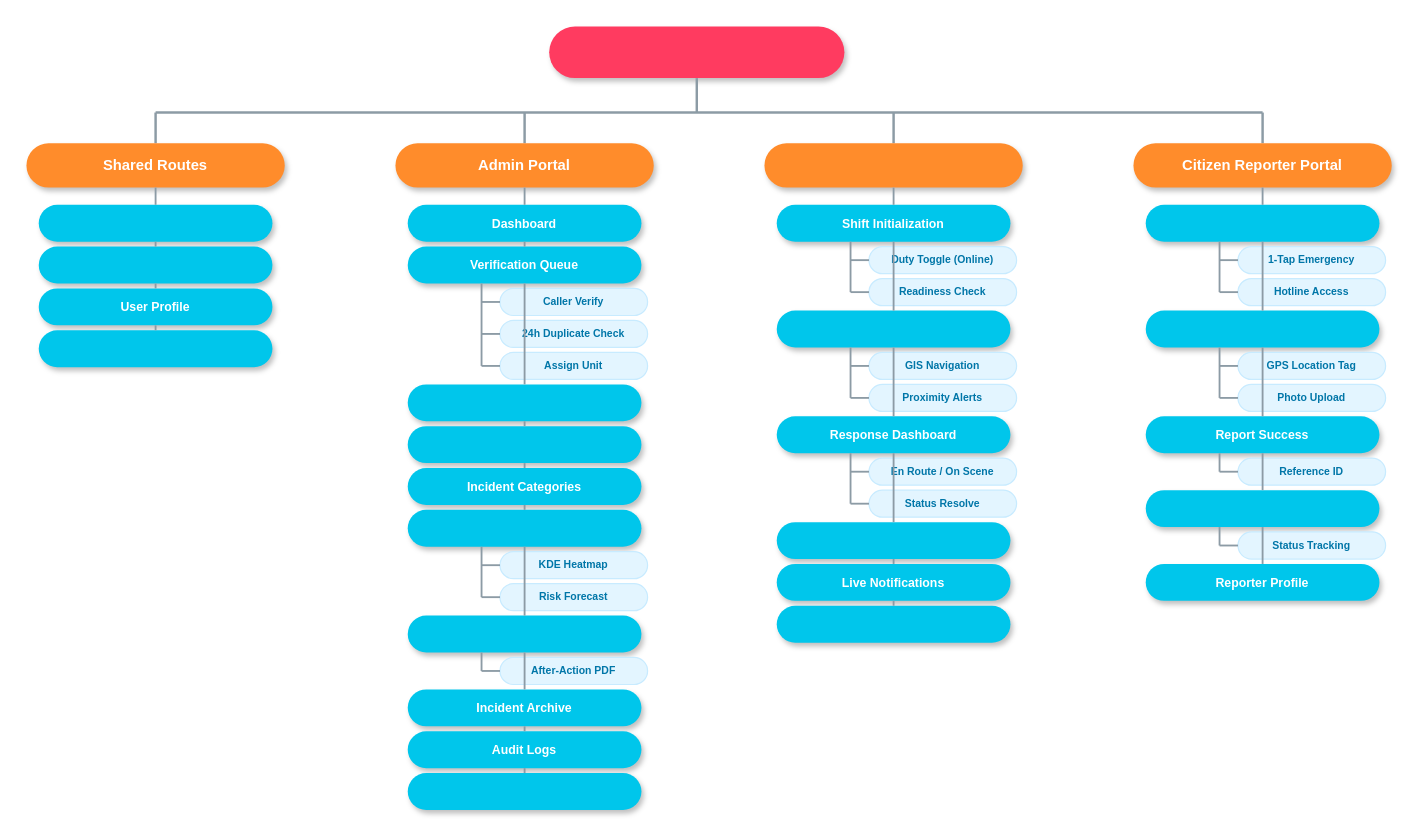
This 1419x839 diagram has some shape labels left out. Each missing label, with the centre of its shape:
"Assigned Incidents" belongs at point (894, 542).
"Emergency Home" belongs at point (1263, 224).
"GAOIRS Capstone System" belongs at point (697, 53).
"Home / Login" belongs at point (156, 224).
"Incident Report Form" belongs at point (1263, 330).
"My Incident Reports" belongs at point (1263, 510).
"Post-Incident Reports" belongs at point (525, 635).
"Register Account" belongs at point (156, 266).
"Response Live Map" belongs at point (894, 330).
"Response Unit Portal" belongs at point (894, 167).
"Response Units" belongs at point (525, 446).
"Spatial Analytics" belongs at point (525, 529).
"System Settings" belongs at point (525, 793).
"Unauthorized Access" belongs at point (156, 350).
"User Guide" belongs at point (894, 625).
"User Management" belongs at point (525, 404).
